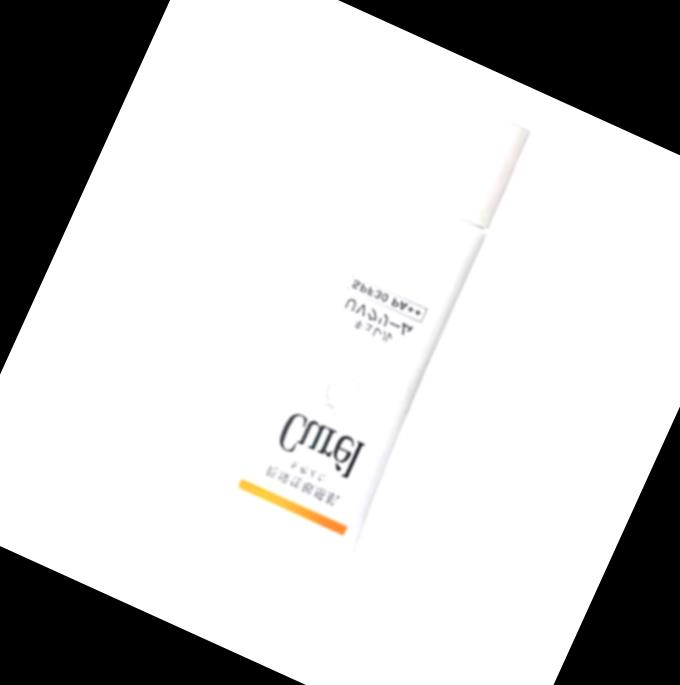cosmetic: (175, 71, 550, 624)
